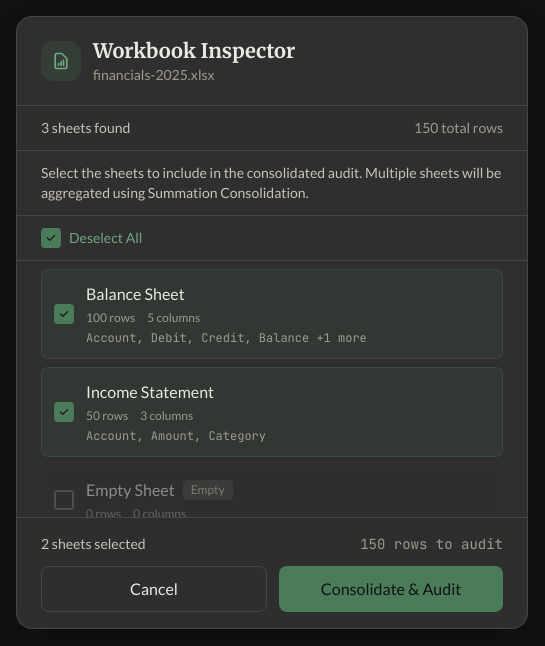
WorkbookInspector › deselects a sheet when clicked
The image size is (545, 646).
What coordinates should you click on to do the following:
click the text "Income Statement"
I would click on:
 (150, 392)
Its box is 86,380 -> 214,404.
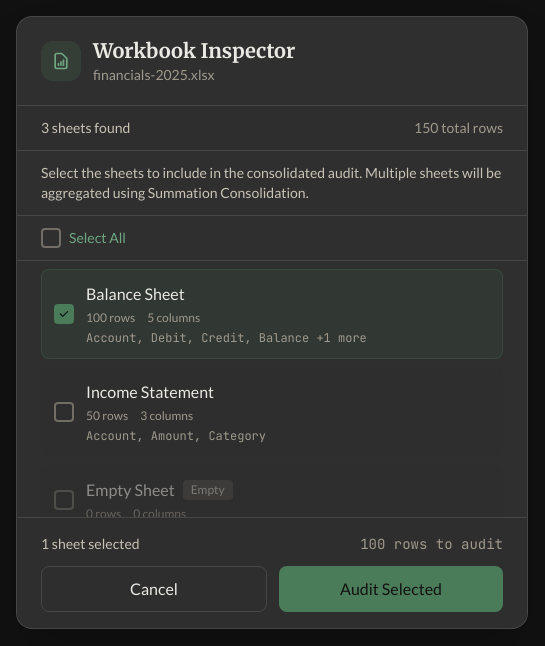
Result: the text "1 sheet selected" is shown at 41,534 -> 140,554
Result: the text "100 rows to audit" is shown at 360,534 -> 503,554
